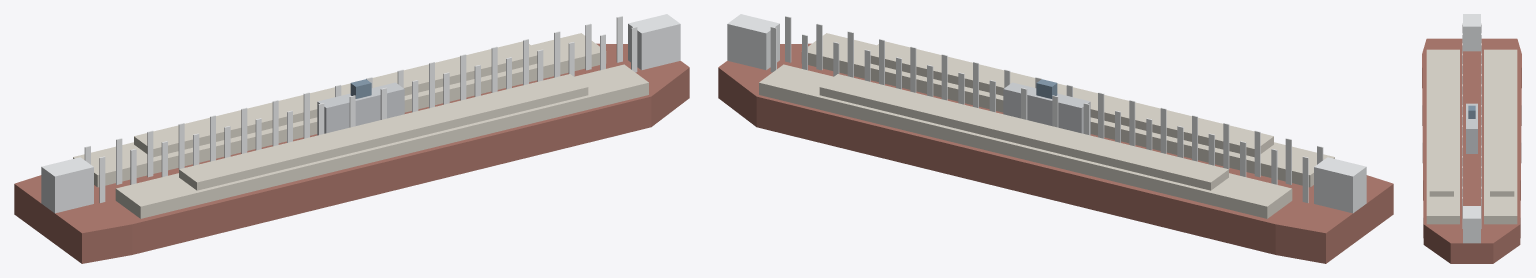
File: ship.glb
3 views of the same model, side by side, from view 1: azimuth 30°, elevation 25°; view 2: azimuth 150°, elevation 25°; view 3: azimuth 270°, elevation 25° (orthographic). The views are drawn at different scales.
Parts seen in each view (by area): view 1: Hull, TerracesUpper_Port, Terraces_Port, TerracesUpper_Stbd, Terraces_Stbd, Tower_Aft, Superstructure, Tower_Fore; view 2: Hull, TerracesUpper_Stbd, Terraces_Stbd, TerracesUpper_Port, Terraces_Port, Tower_Aft, Superstructure, Tower_Fore; view 3: Hull, TerracesUpper_Port, TerracesUpper_Stbd, Terraces_Port, Terraces_Stbd, Tower_Aft, Tower_Fore, Superstructure, BridgeTower.
Boxes of the visible parts, box(x1,y1,x2,y2) form: Hull: box(14, 43, 689, 263); TerracesUpper_Port: box(179, 74, 588, 190); Terraces_Port: box(115, 64, 648, 218); TerracesUpper_Stbd: box(134, 41, 537, 157); Terraces_Stbd: box(73, 33, 606, 187); Tower_Aft: box(41, 157, 93, 213); Superstructure: box(317, 82, 404, 135); Tower_Fore: box(628, 14, 680, 70); Hull: box(718, 43, 1393, 263); TerracesUpper_Stbd: box(819, 74, 1228, 190); Terraces_Stbd: box(759, 64, 1292, 218); TerracesUpper_Port: box(870, 41, 1273, 157); Terraces_Port: box(801, 33, 1334, 187); Tower_Aft: box(1314, 157, 1366, 213); Superstructure: box(1003, 82, 1090, 135); Tower_Fore: box(727, 14, 779, 70); Hull: box(1422, 38, 1521, 263); TerracesUpper_Port: box(1429, 63, 1453, 196); TerracesUpper_Stbd: box(1490, 63, 1514, 196); Terraces_Port: box(1426, 49, 1459, 224); Terraces_Stbd: box(1484, 49, 1517, 224); Tower_Aft: box(1463, 14, 1480, 51); Tower_Fore: box(1463, 206, 1480, 243); Superstructure: box(1466, 103, 1477, 153); BridgeTower: box(1468, 105, 1475, 118).
Size of what is drawn, in the model's own units: 1600 by 195 by 330.
